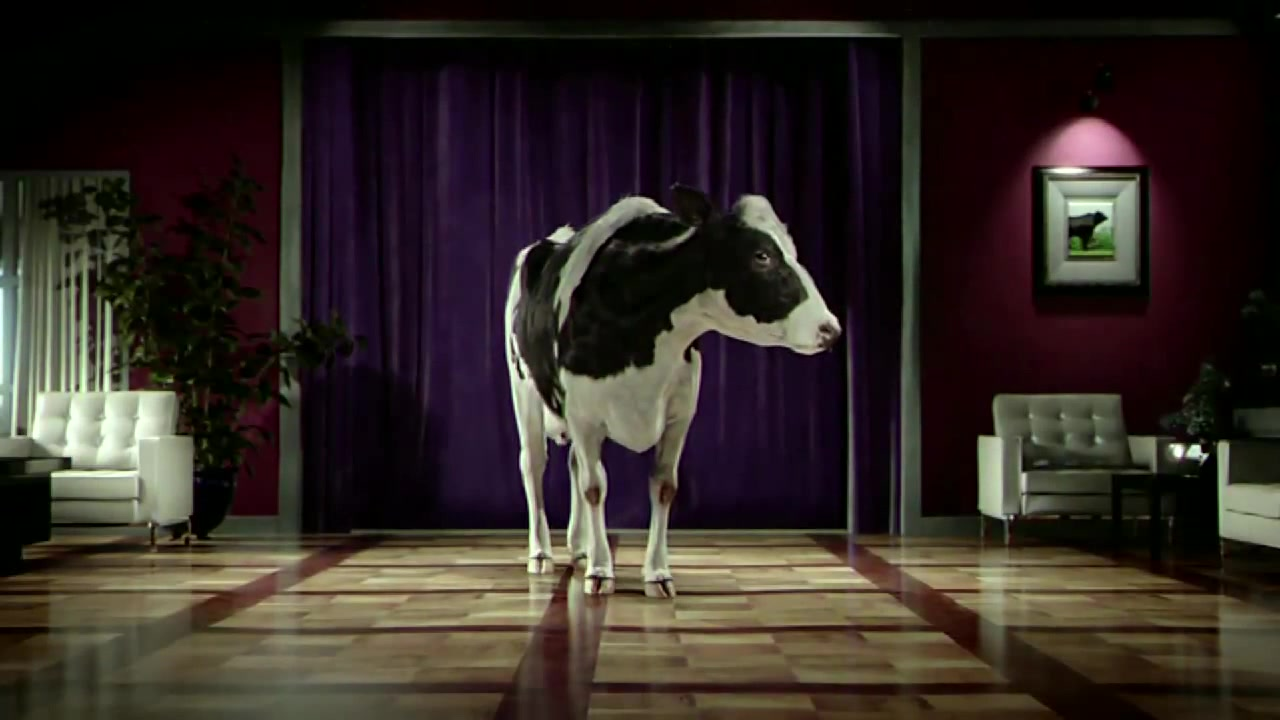cow: (502, 185, 838, 606)
